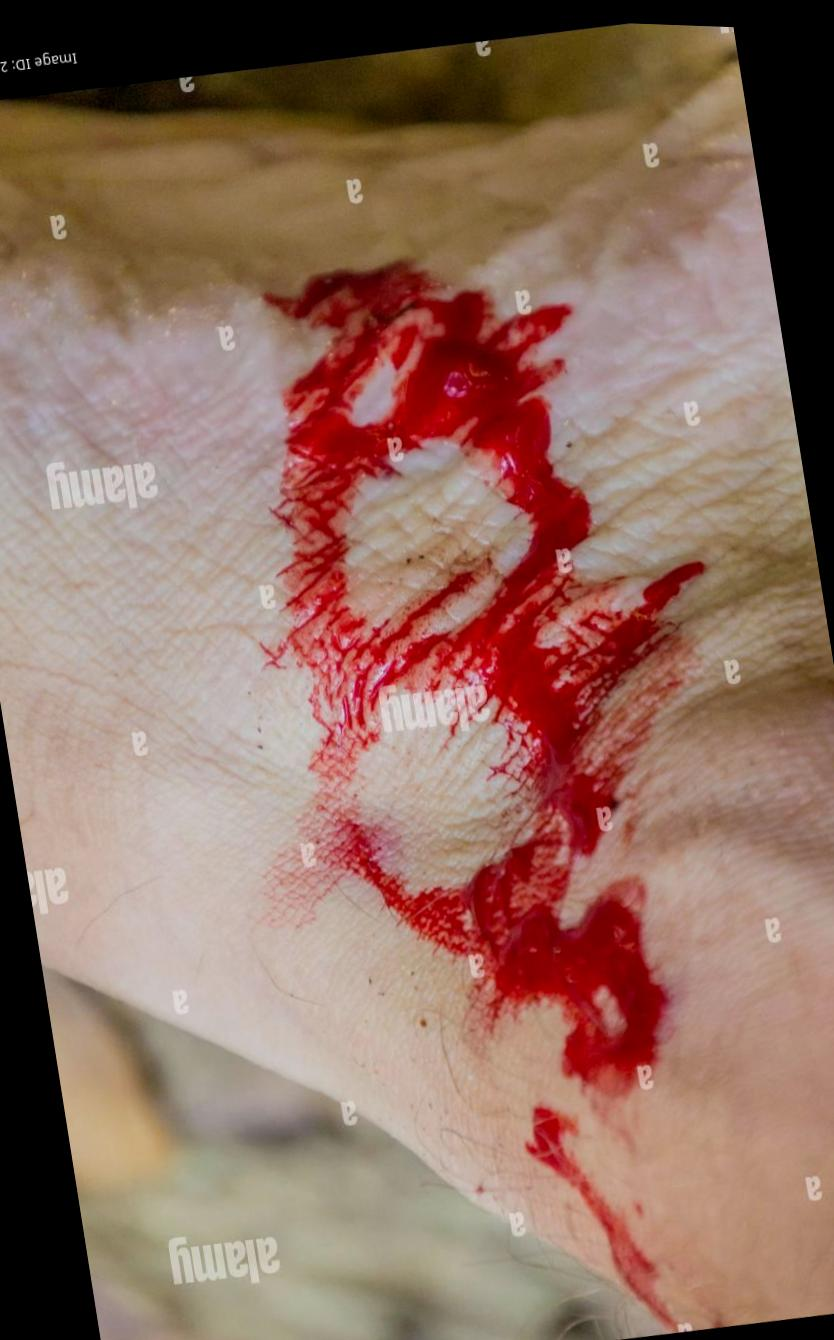Fire: (272, 261, 703, 1100), (527, 1105, 674, 1323)
